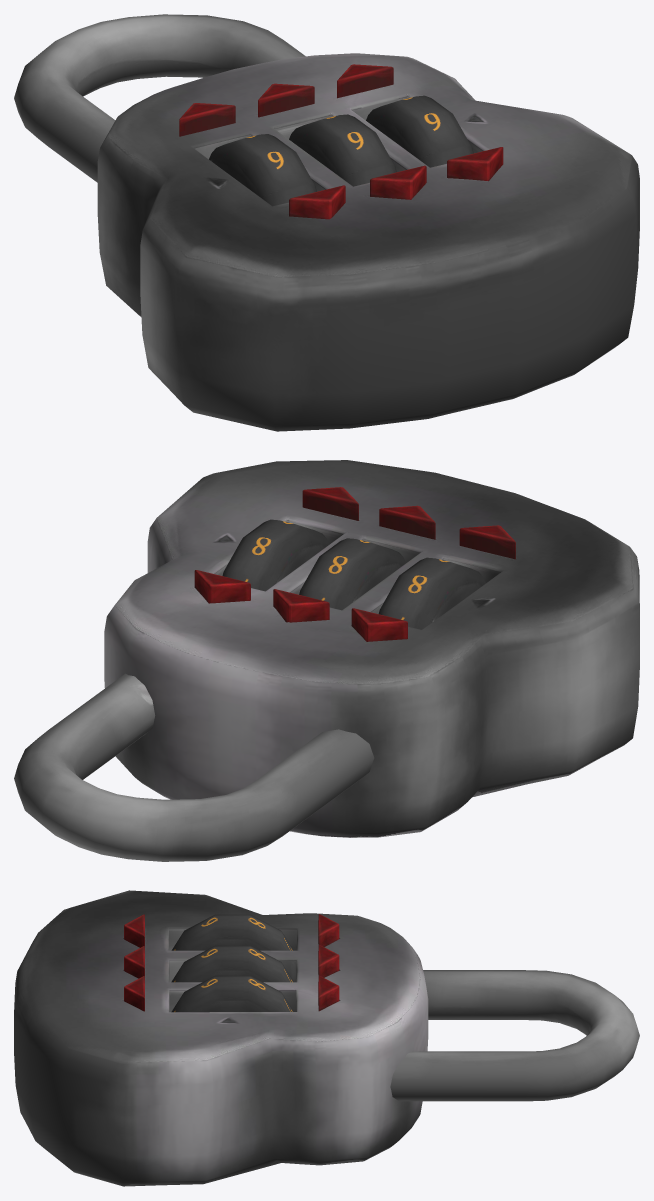
Rendered from Candado Codigo Fin.FBX.
The picture shows the model from 3 angles, top to bottom: view 1: azimuth 30°, elevation 25°; view 2: azimuth 150°, elevation 25°; view 3: azimuth 270°, elevation 25°; orthographic projection. The views are drawn at different scales.
Visible parts, largest first — view 1: Candado, Cilindro de Codigos 3, Rueda1, Rueda2, Rueda3, Boton5, Boton6, Boton4, Boton3, boton2, boton1; view 2: Candado, Cilindro de Codigos 3, Rueda1, Rueda3, Rueda2, boton2, boton1, Boton3, Boton4, Boton5, Boton6; view 3: Candado, Cilindro de Codigos 3, Rueda3, Rueda1, Rueda2, Boton3, boton2, boton1, Boton6, Boton4, Boton5.
Part boxes in pixels (x1=…): Candado: x1=97, y1=53, x2=639, y2=431; Cilindro de Codigos 3: x1=14, y1=14, x2=305, y2=182; Rueda1: x1=209, y1=134, x2=316, y2=206; Rueda2: x1=289, y1=114, x2=396, y2=186; Rueda3: x1=366, y1=95, x2=473, y2=167; Boton5: x1=370, y1=165, x2=426, y2=199; Boton6: x1=447, y1=147, x2=503, y2=181; Boton4: x1=289, y1=185, x2=345, y2=219; Boton3: x1=337, y1=64, x2=393, y2=98; boton2: x1=258, y1=83, x2=314, y2=117; boton1: x1=179, y1=103, x2=235, y2=136; Candado: x1=104, y1=460, x2=639, y2=837; Cilindro de Codigos 3: x1=14, y1=673, x2=374, y2=861; Rueda1: x1=378, y1=557, x2=485, y2=629; Rueda3: x1=222, y1=519, x2=329, y2=591; Rueda2: x1=299, y1=538, x2=405, y2=610; boton2: x1=273, y1=589, x2=329, y2=622; boton1: x1=351, y1=608, x2=407, y2=641; Boton3: x1=194, y1=570, x2=250, y2=603; Boton4: x1=459, y1=525, x2=515, y2=559; Boton5: x1=379, y1=505, x2=435, y2=539; Boton6: x1=302, y1=487, x2=358, y2=520; Candado: x1=14, y1=890, x2=428, y2=1186; Cilindro de Codigos 3: x1=390, y1=970, x2=639, y2=1101; Rueda3: x1=171, y1=975, x2=293, y2=1012; Rueda1: x1=171, y1=914, x2=293, y2=950; Rueda2: x1=171, y1=945, x2=293, y2=982; Boton3: x1=318, y1=975, x2=339, y2=1011; boton2: x1=318, y1=945, x2=339, y2=977; boton1: x1=318, y1=914, x2=339, y2=946; Boton6: x1=124, y1=976, x2=144, y2=1011; Boton4: x1=124, y1=914, x2=144, y2=947; Boton5: x1=124, y1=946, x2=144, y2=978.
Size of the model in its own units: 338 by 141 by 504.
1 material, 1 textured.
